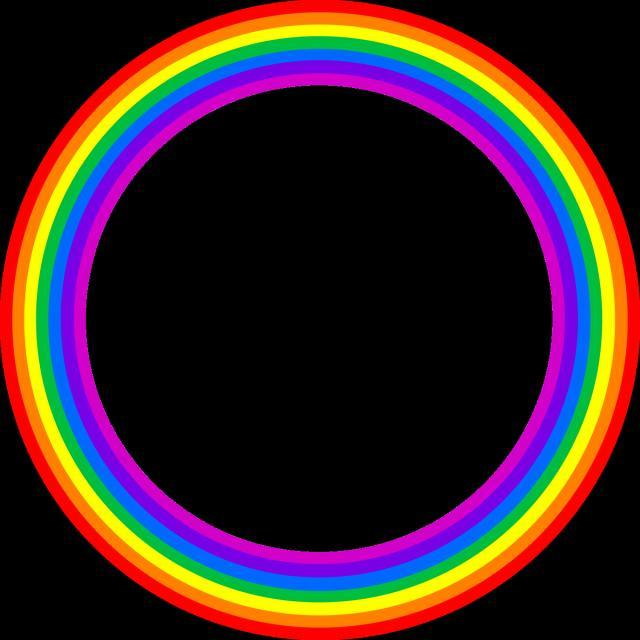Circle: (84, 88, 554, 552)
